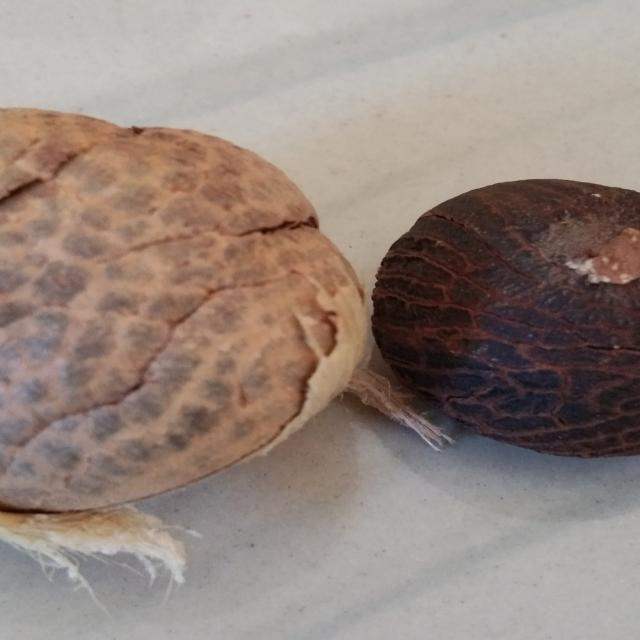karigot: (378, 151, 640, 474)
phatora: (0, 99, 391, 552)
